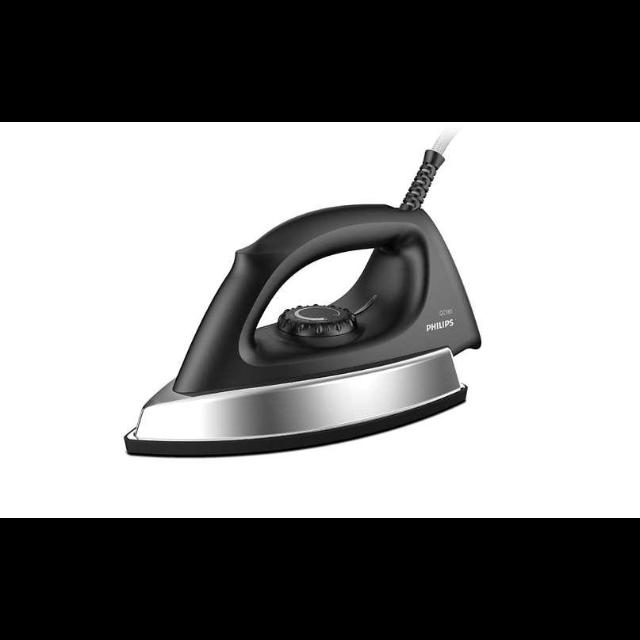Clothes-Iron: (117, 196, 487, 464)
